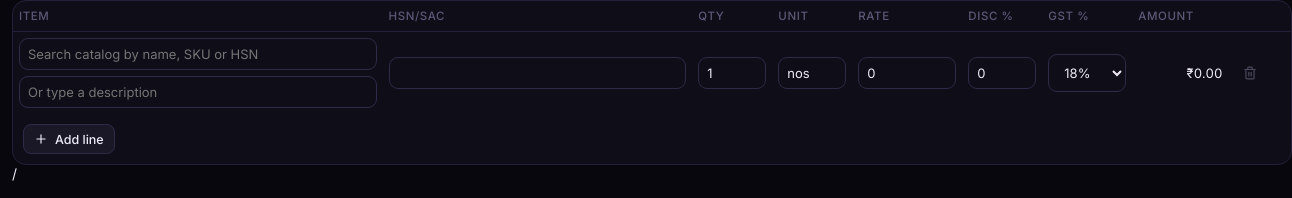
Test case: LineItemsEditor — reusable items › a quantity change recalculates the line amount for the preview
The width and height of the screenshot is (1292, 198).
Click the dropdown labelled "Search catalog" at (198,54), box [19,38,376,70]
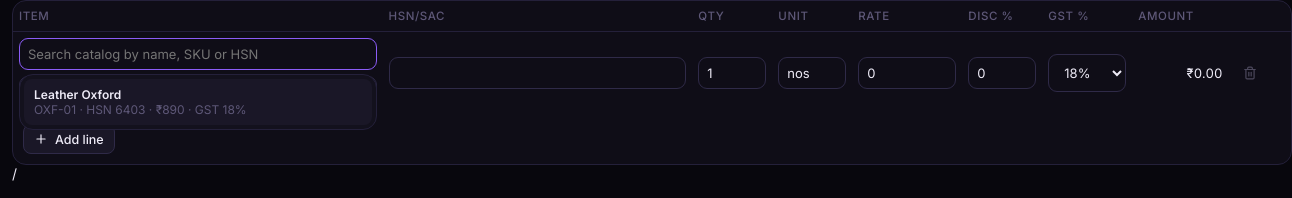
Click the option "Leather Oxford OXF-01 · HSN 6403 · ₹890 · GST 18%" at (198,102), box [24,79,372,125]
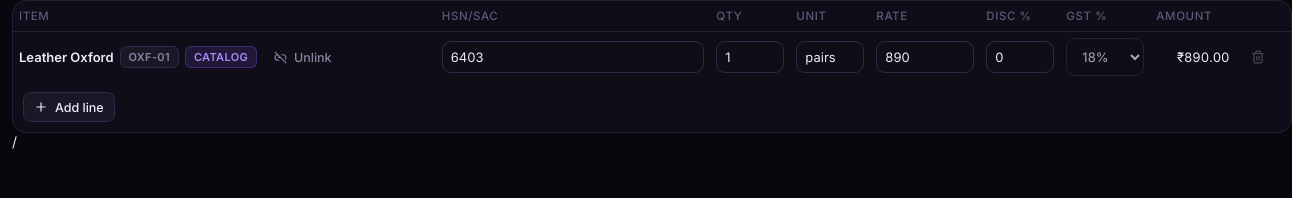
Replace the text in the number field named "Line 1 quantity" with "2" at (750,57), box [716,41,784,73]
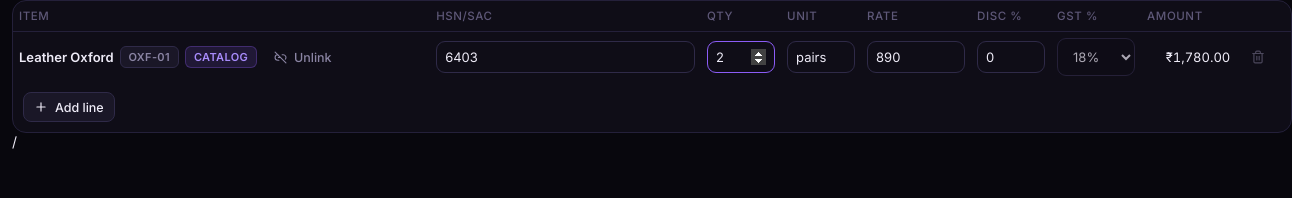
Expected: the text "₹1,780.00" is shown, [1141,32,1236,82]
